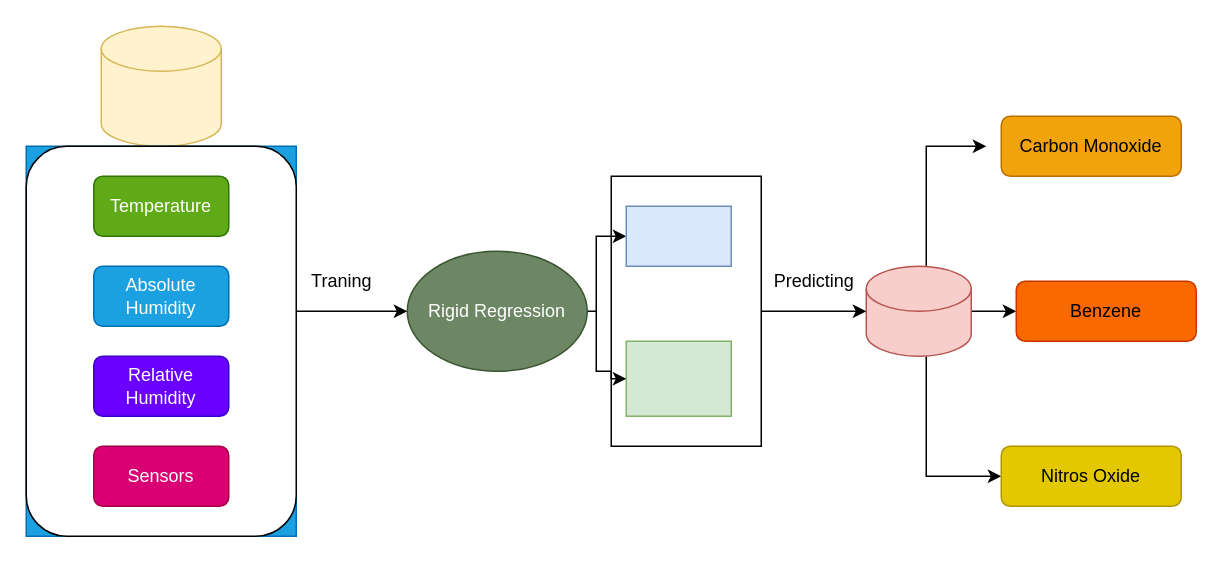
Image size: 1223x563. Some labels were removed from this diagram. Here are the shapes that lost their labels. From the top down, the centre of each, then its label:
At [160,85]: "Train Data".
At [678,235]: "Bias".
At [918,310]: "Test Data".
At [678,378]: "Variance".
